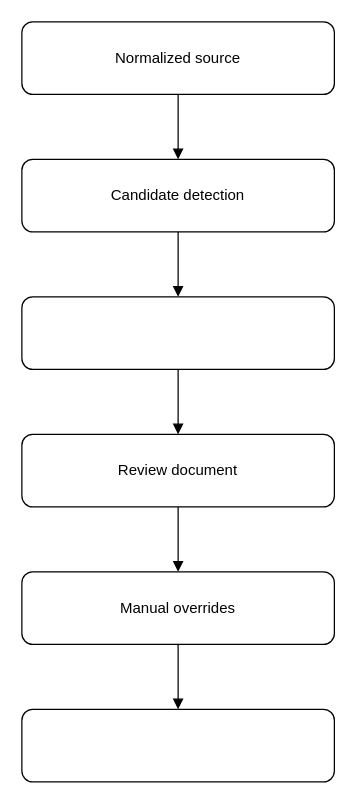
Image size: 356x804. Some labels were removed from this diagram. Each missing label, with the centre of its shape:
"Machine alignment" goes at [177,332].
"Reviewed alignment" goes at [177,745].
